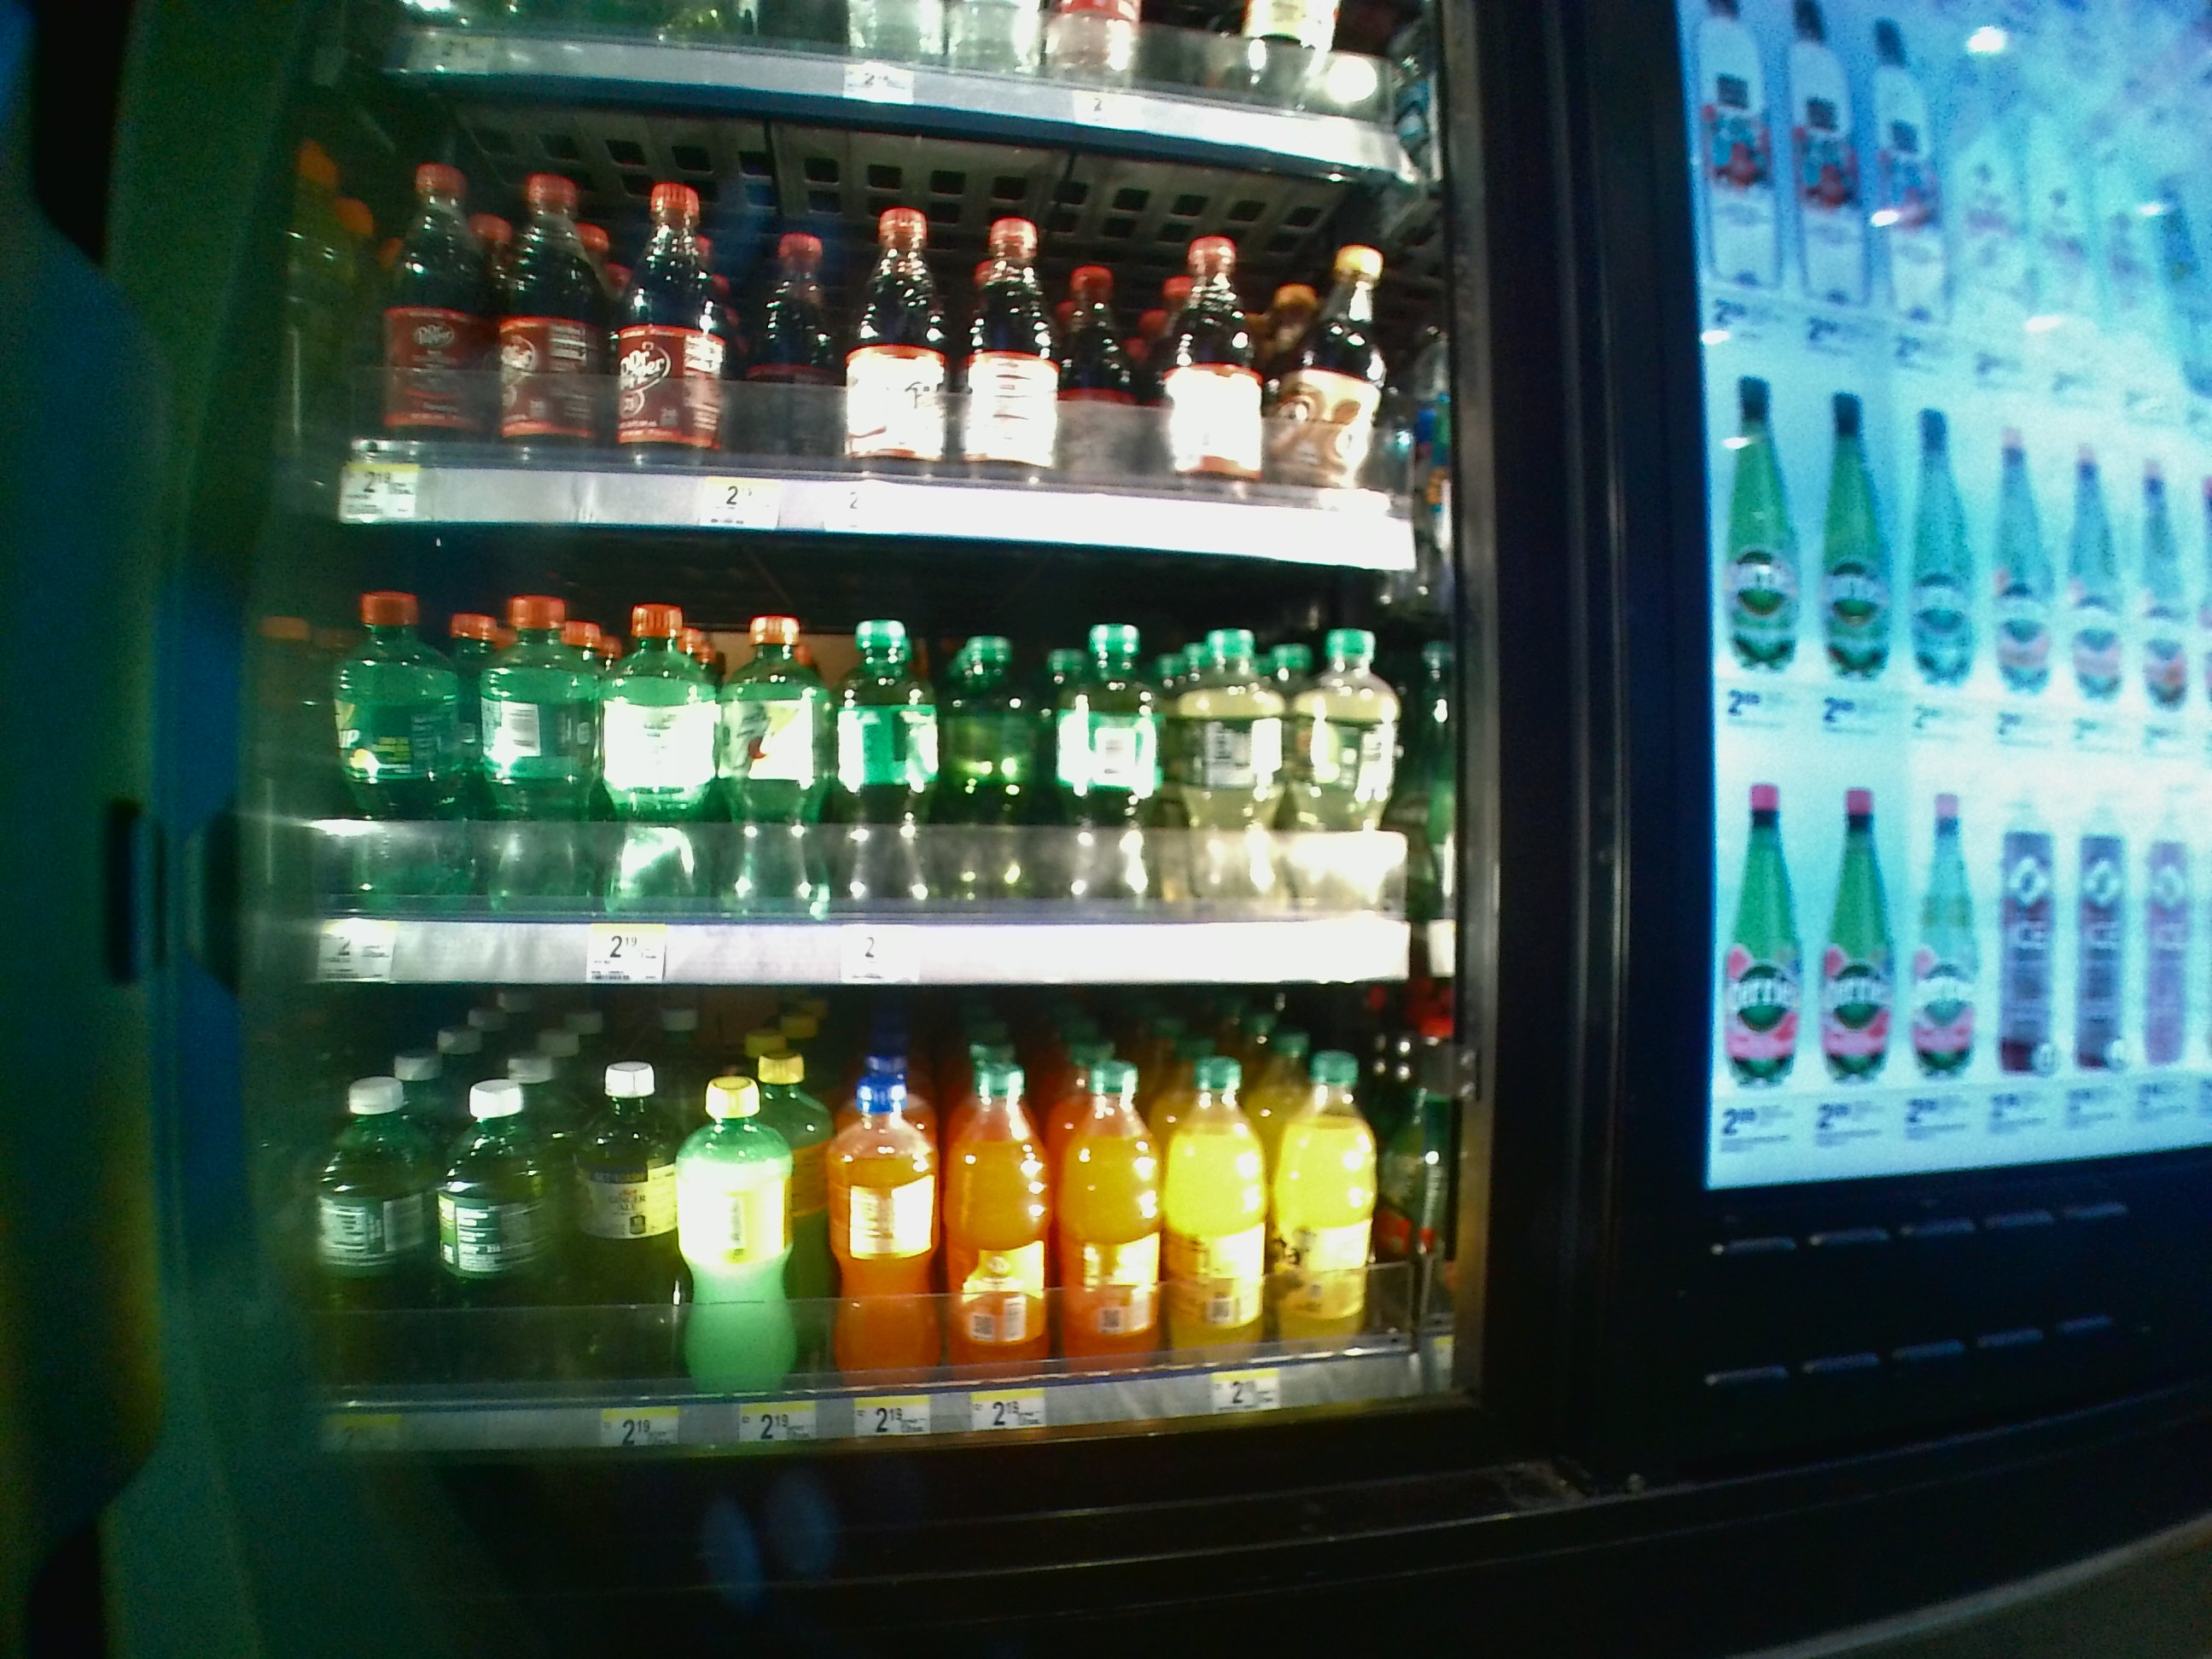shelf: (315, 995, 1480, 1469), (334, 78, 1444, 563), (324, 575, 1465, 985)
